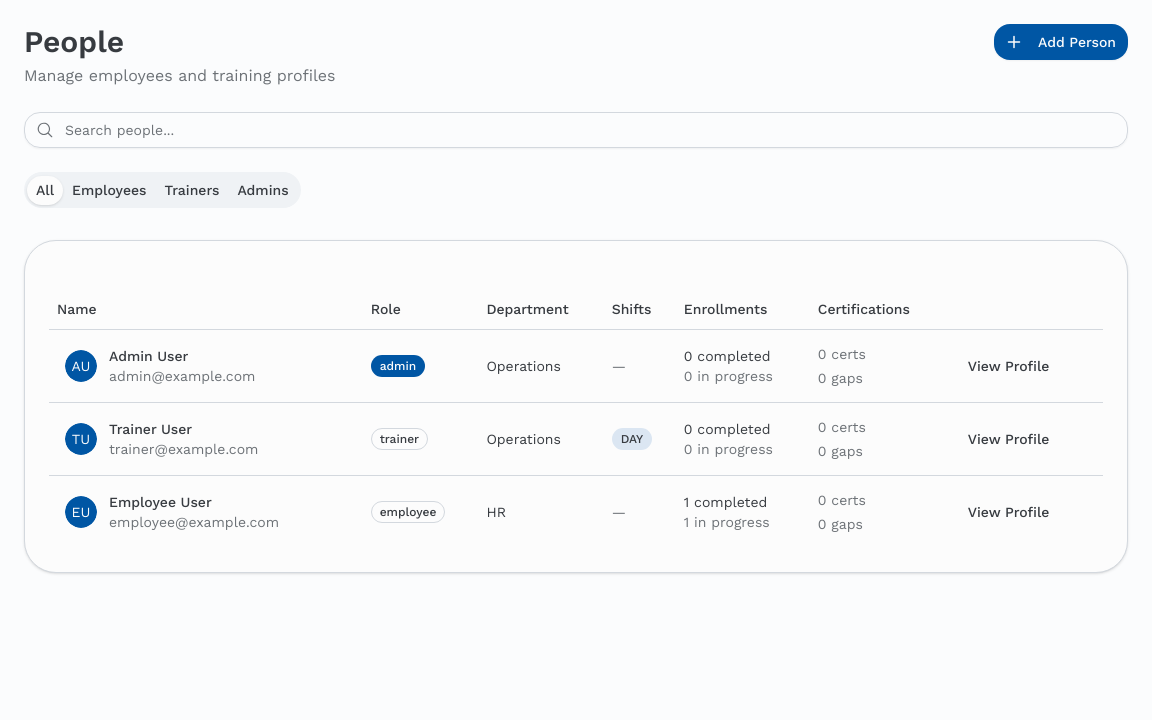
Scenario: People › filters people by role tabs
Expected: the element named "filter people by role" is shown, x1=24 y1=172 x2=300 y2=208
Expected: the table named "people directory" is shown, x1=49 y1=289 x2=1103 y2=548
Step 1. Click the tab "Trainers" → (192, 190), box x1=156 y1=176 x2=228 y2=204
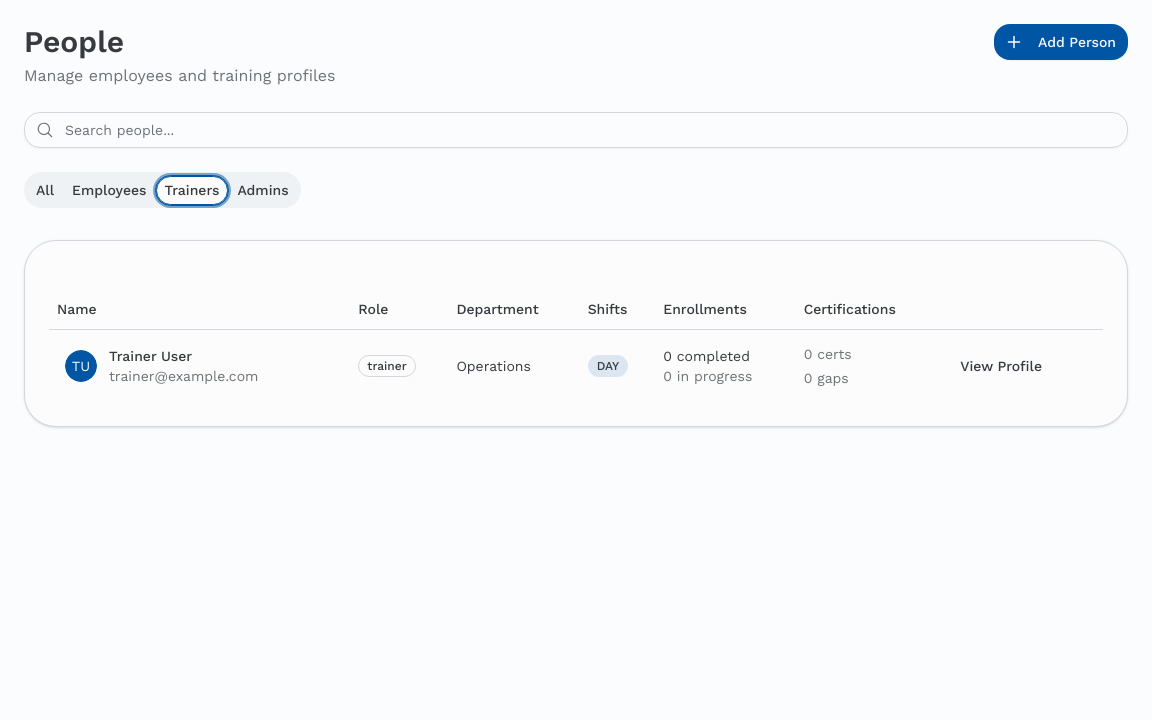
Expected: the text "Trainer User" is shown, x1=109 y1=346 x2=192 y2=366
Expected: the button "Admin User" is gone
Expected: the button "Employee User" is gone
Step 2. Click the tab "Admins" → (263, 190), box x1=228 y1=176 x2=298 y2=204
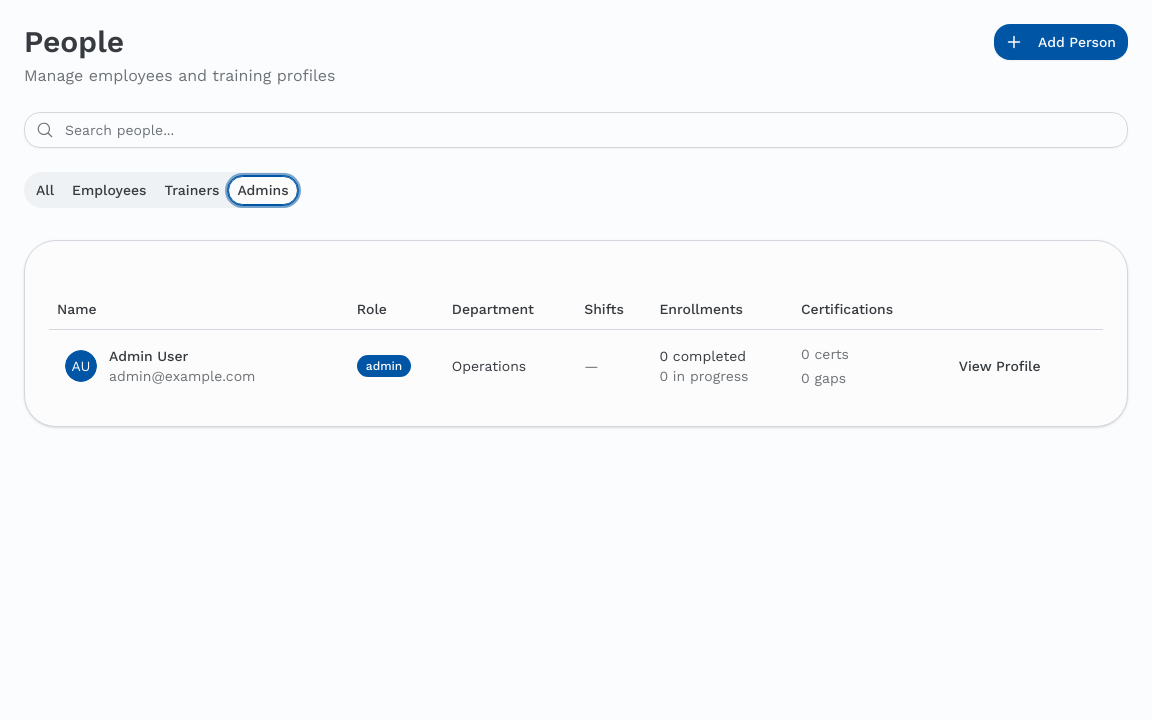
Expected: the button "Employee User" is not shown
Expected: the text "Admin User" is shown, x1=109 y1=346 x2=188 y2=366
Expected: the button "Trainer User" is gone
